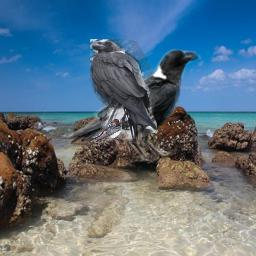Crow: (66, 45, 202, 163), (90, 39, 157, 144)
Swallow: (92, 119, 122, 143)
